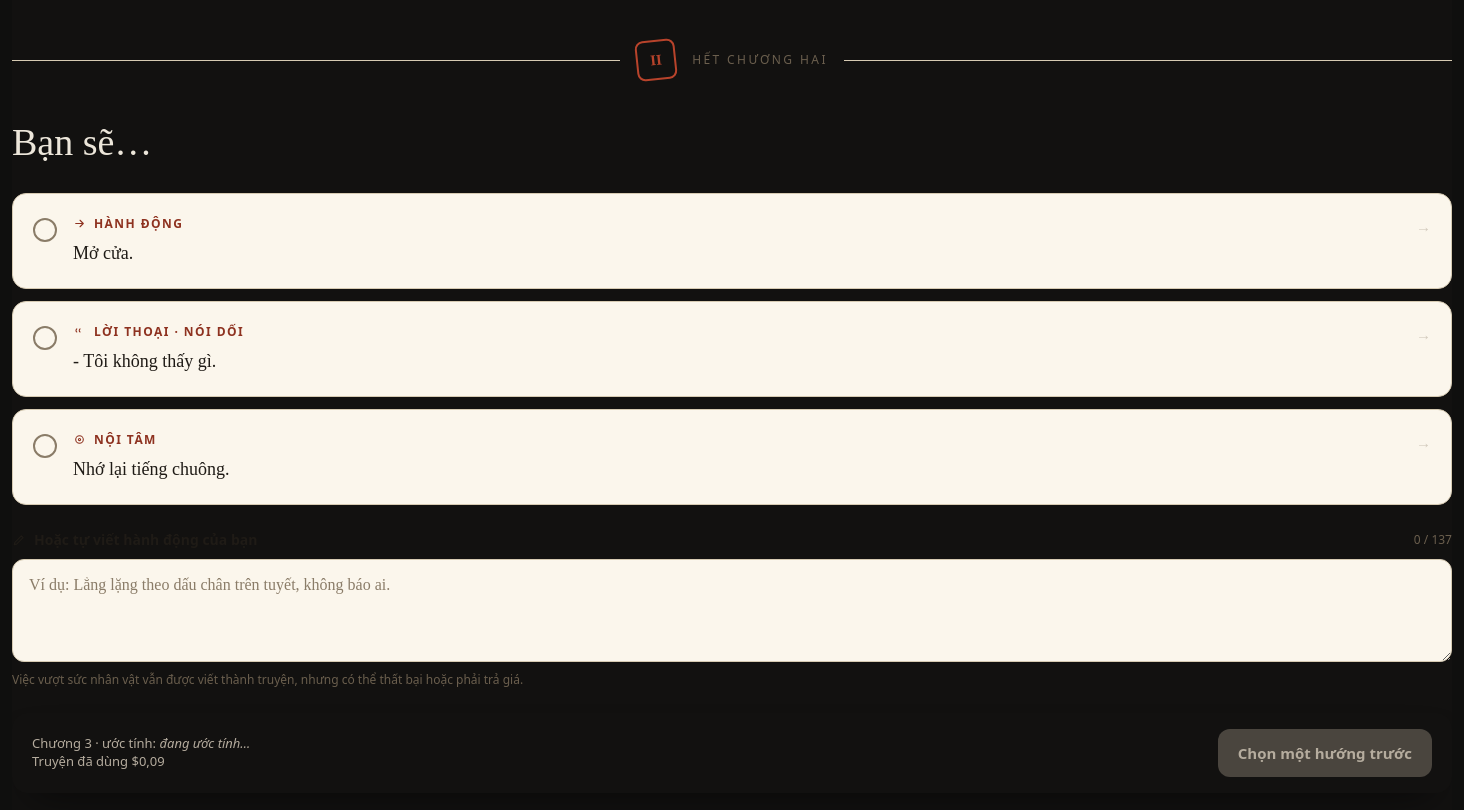
lựa chọn cuối chương › lỗi ô tự viết hiện ngay dưới ô, nguyên văn câu máy chủ
Type "cái kia đi chỗ đó" into the text box labelled "Hoặc tự viết hành động của bạn".
click(732, 610); type("cái kia đi chỗ đó")  # box [12,559,1452,662]
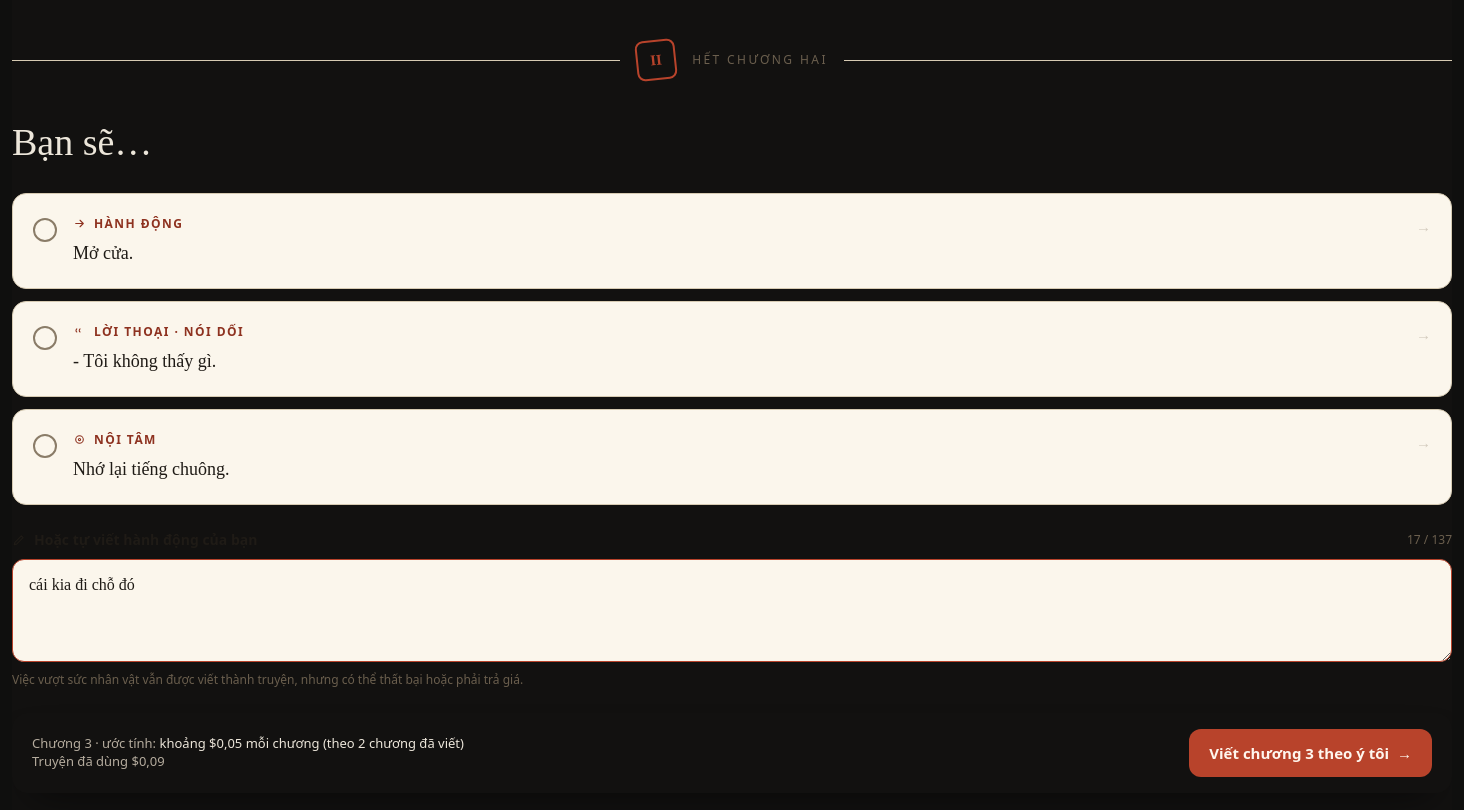
Click the button "Viết chương 3 theo ý tôi →".
click(1311, 753)  # box [1189,729,1432,777]
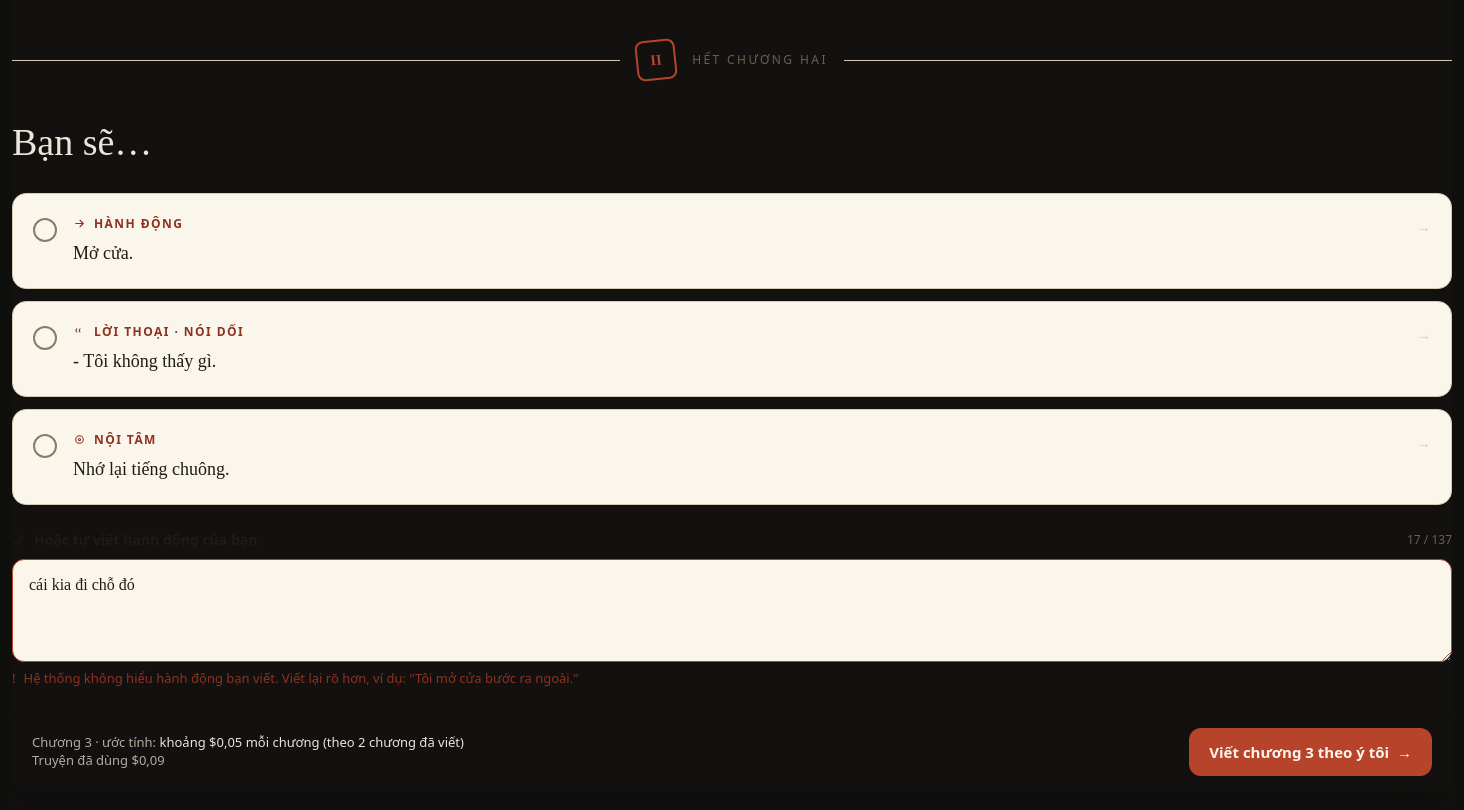
Result: the message shows "Hệ thống không hiểu hành động bạn viết." at [24,669,578,687]
